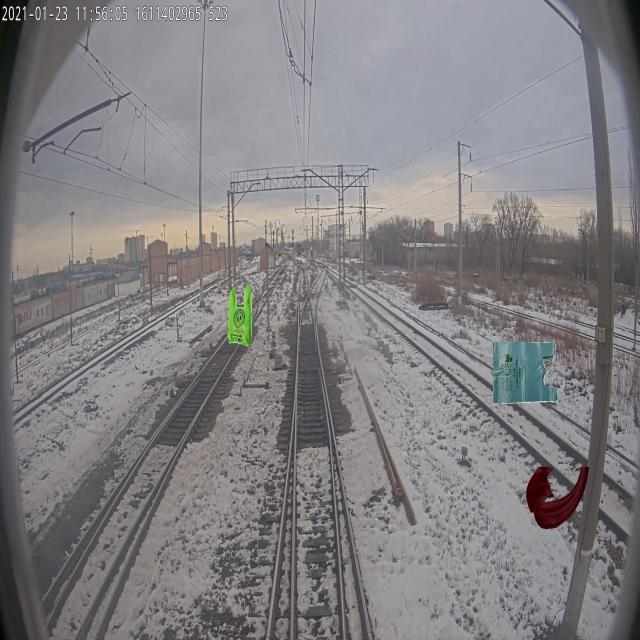floating object: (526, 465, 589, 529)
plastic bag: (492, 340, 558, 404), (227, 284, 252, 348)
